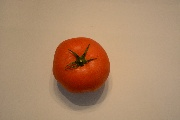tomato: (52, 37, 110, 92)
